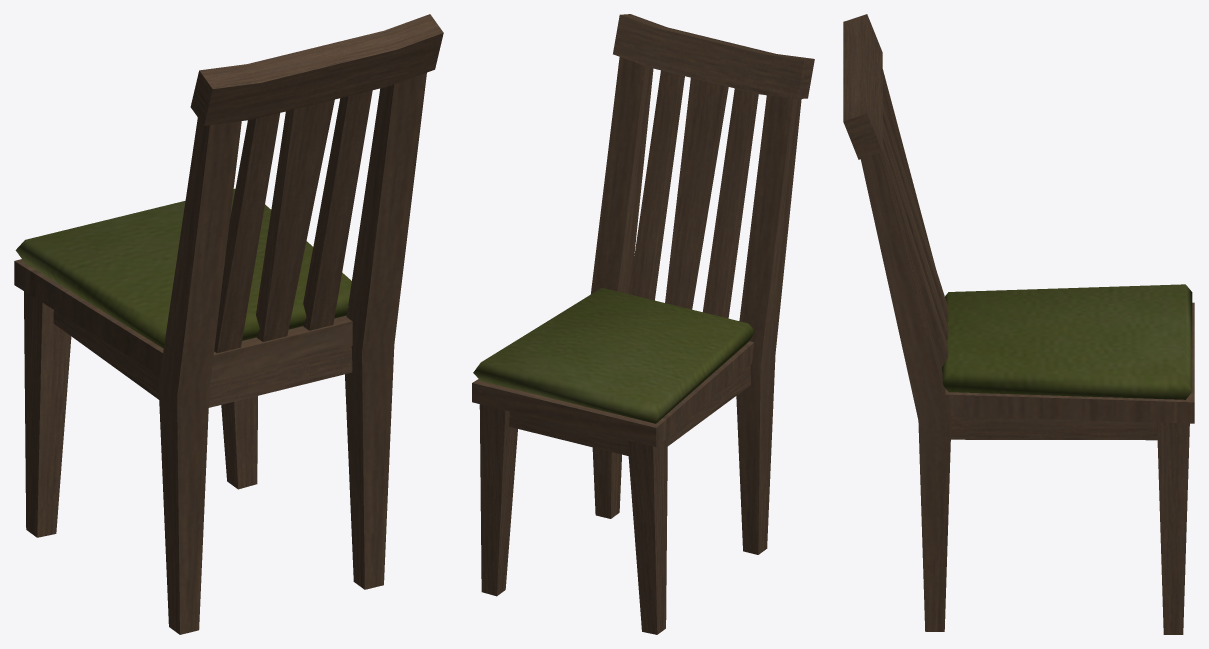
File: Chair_1B.fbx
3 renders of one model, left to right at view 1: azimuth 30°, elevation 25°; view 2: azimuth 150°, elevation 25°; view 3: azimuth 270°, elevation 25°, orthographic. The views are drawn at different scales.
Parts seen in each view (by area): view 1: polySurface449; view 2: polySurface449; view 3: polySurface449.
Part boxes in pixels (box(x1,y1,x2,y2)): polySurface449: box(14, 14, 443, 634); polySurface449: box(472, 14, 814, 634); polySurface449: box(843, 14, 1194, 634).
Bounding box in the file's own units: 0.5004 × 1.22 × 0.7442.
